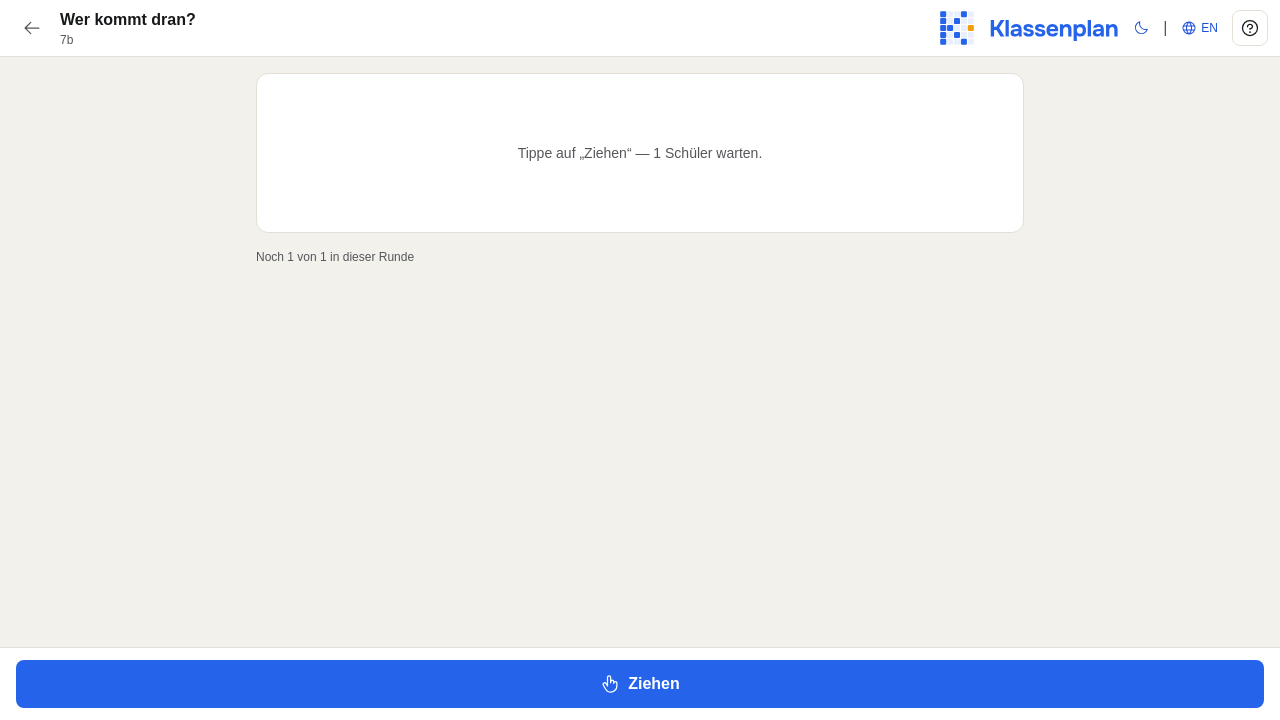
Test: Wer kommt dran? › draws from the class list even without a plan
Click the button "Ziehen".
click(640, 684)  # box [16,660,1264,708]
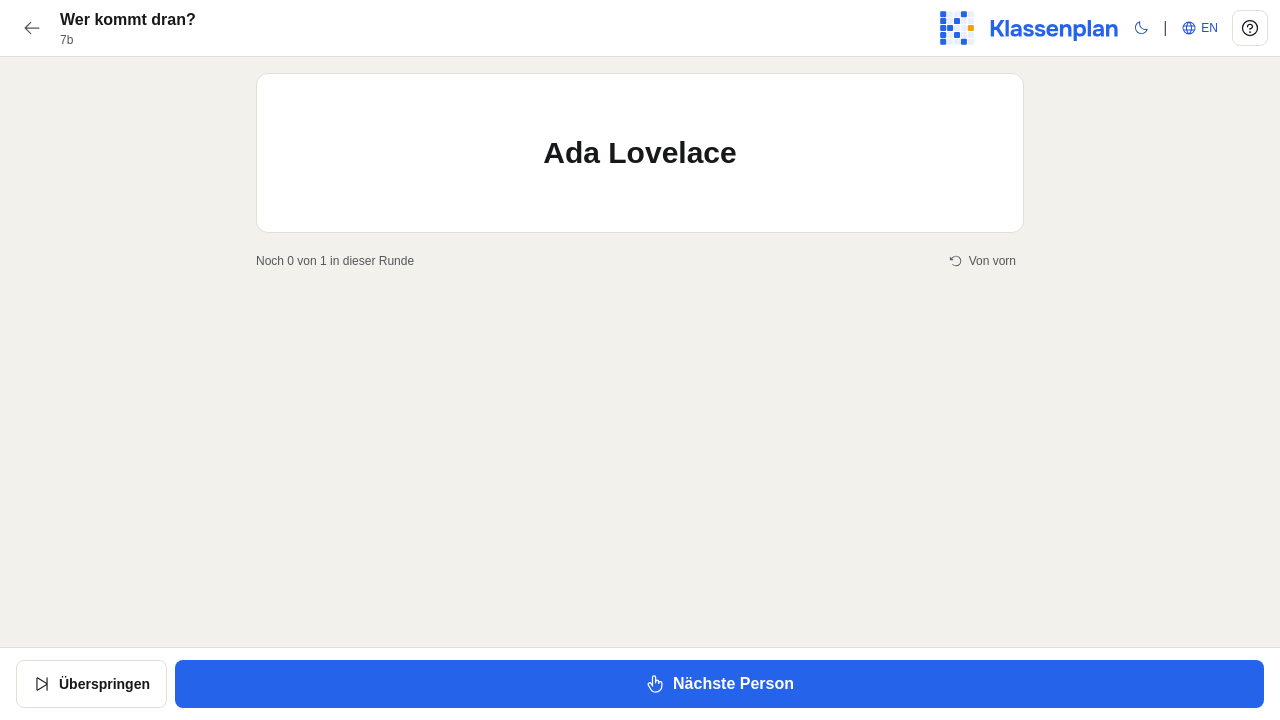
Result: the message reads "Ada Lovelace" at [543,136,737,169]
